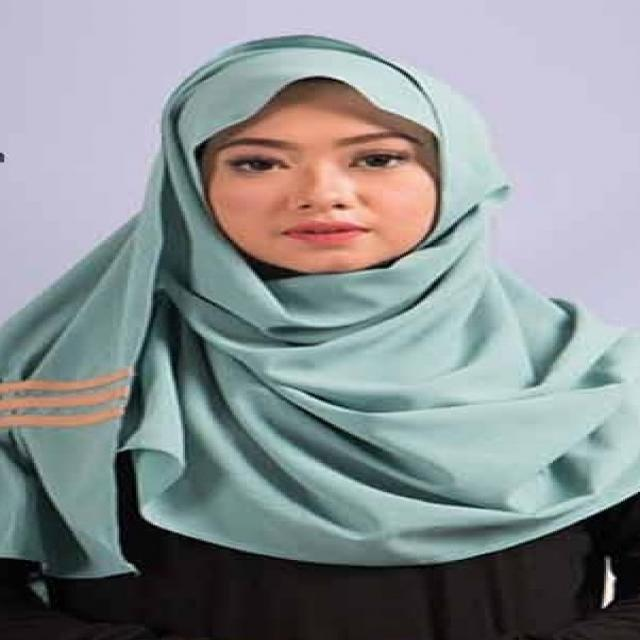head: (157, 35, 473, 278)
